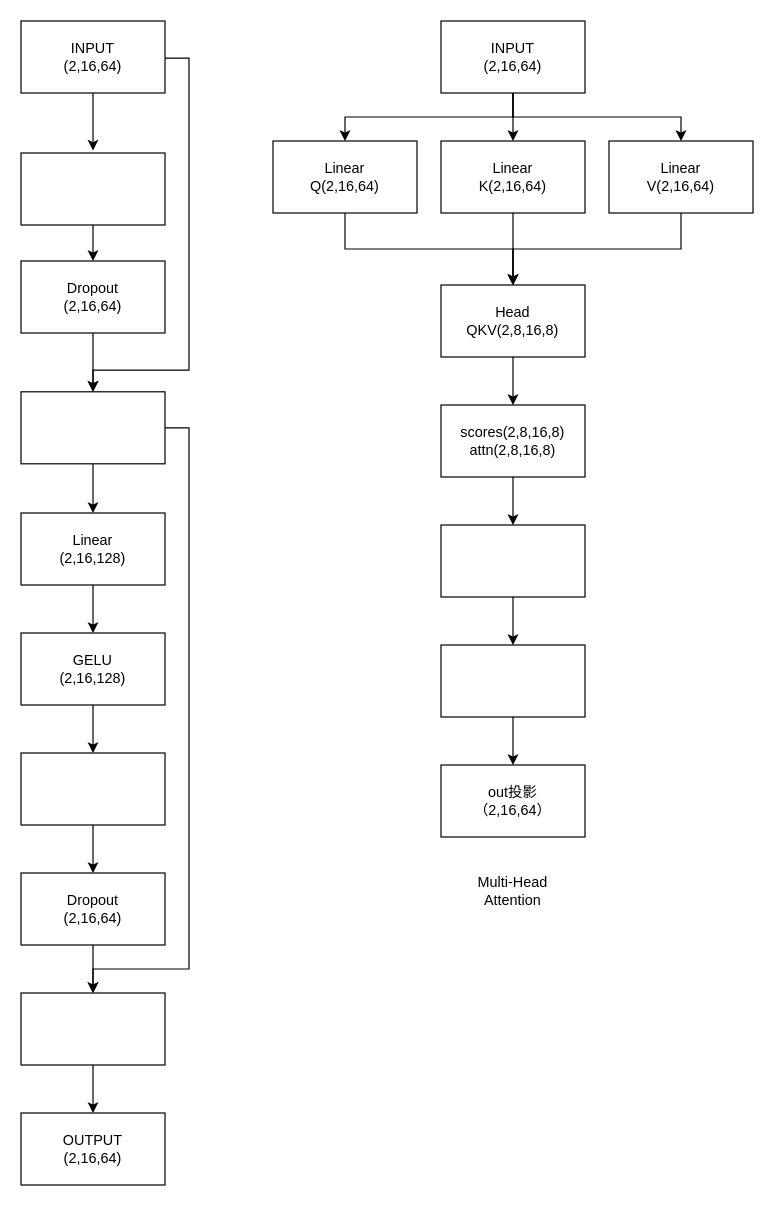
Image size: 774x1206. Some labels were removed from this diagram. The shapes that lost their labels are listed below. From the top down, each one's box as (x1, y1, x2, y2) in pixels, then its label:
(20, 152, 165, 225): Multi-Head Attention (2,16,64)
(20, 391, 165, 464): LayerNorm1 (2,16,64)
(440, 524, 585, 597): ctx(2,8,16,8)
(440, 644, 585, 717): 合并多头 h(2,16,64)
(20, 752, 165, 825): Linear (2,16,64)
(20, 992, 165, 1065): LayerNorm2 (2,16,64)
